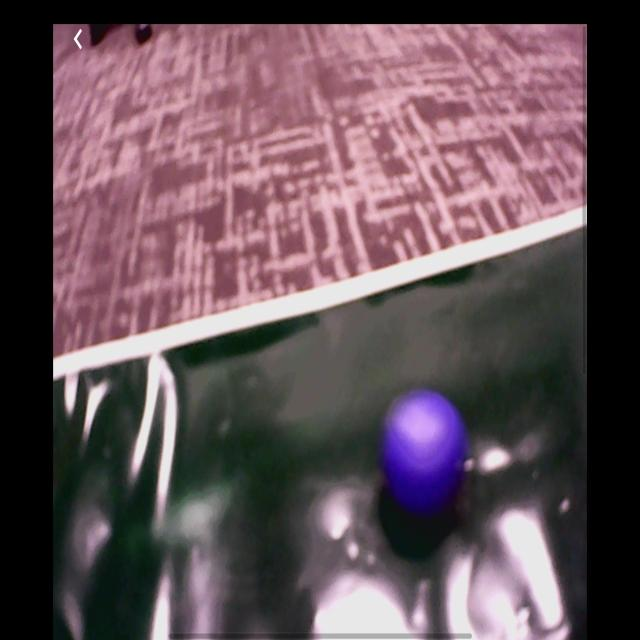ball: (379, 391, 467, 516)
